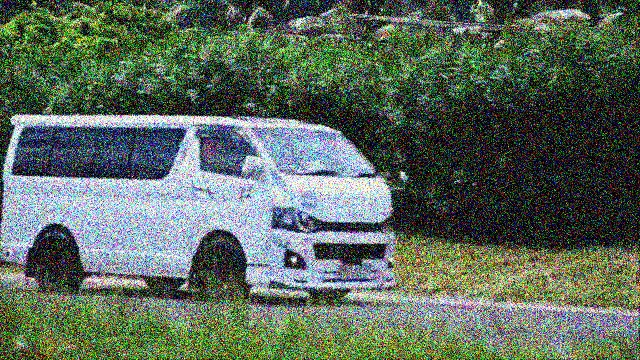van: (2, 105, 400, 313)
